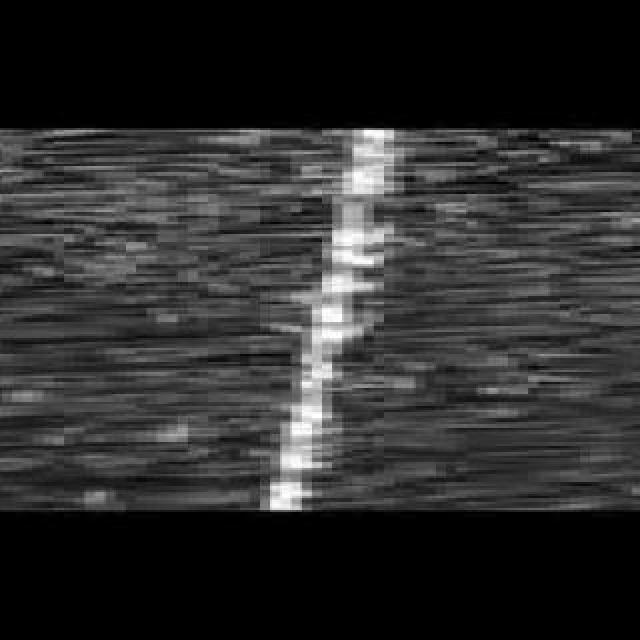Physical-damage: (14, 136, 625, 496)
